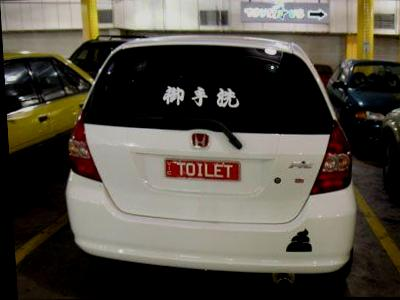License_Plate: (162, 156, 245, 185)
